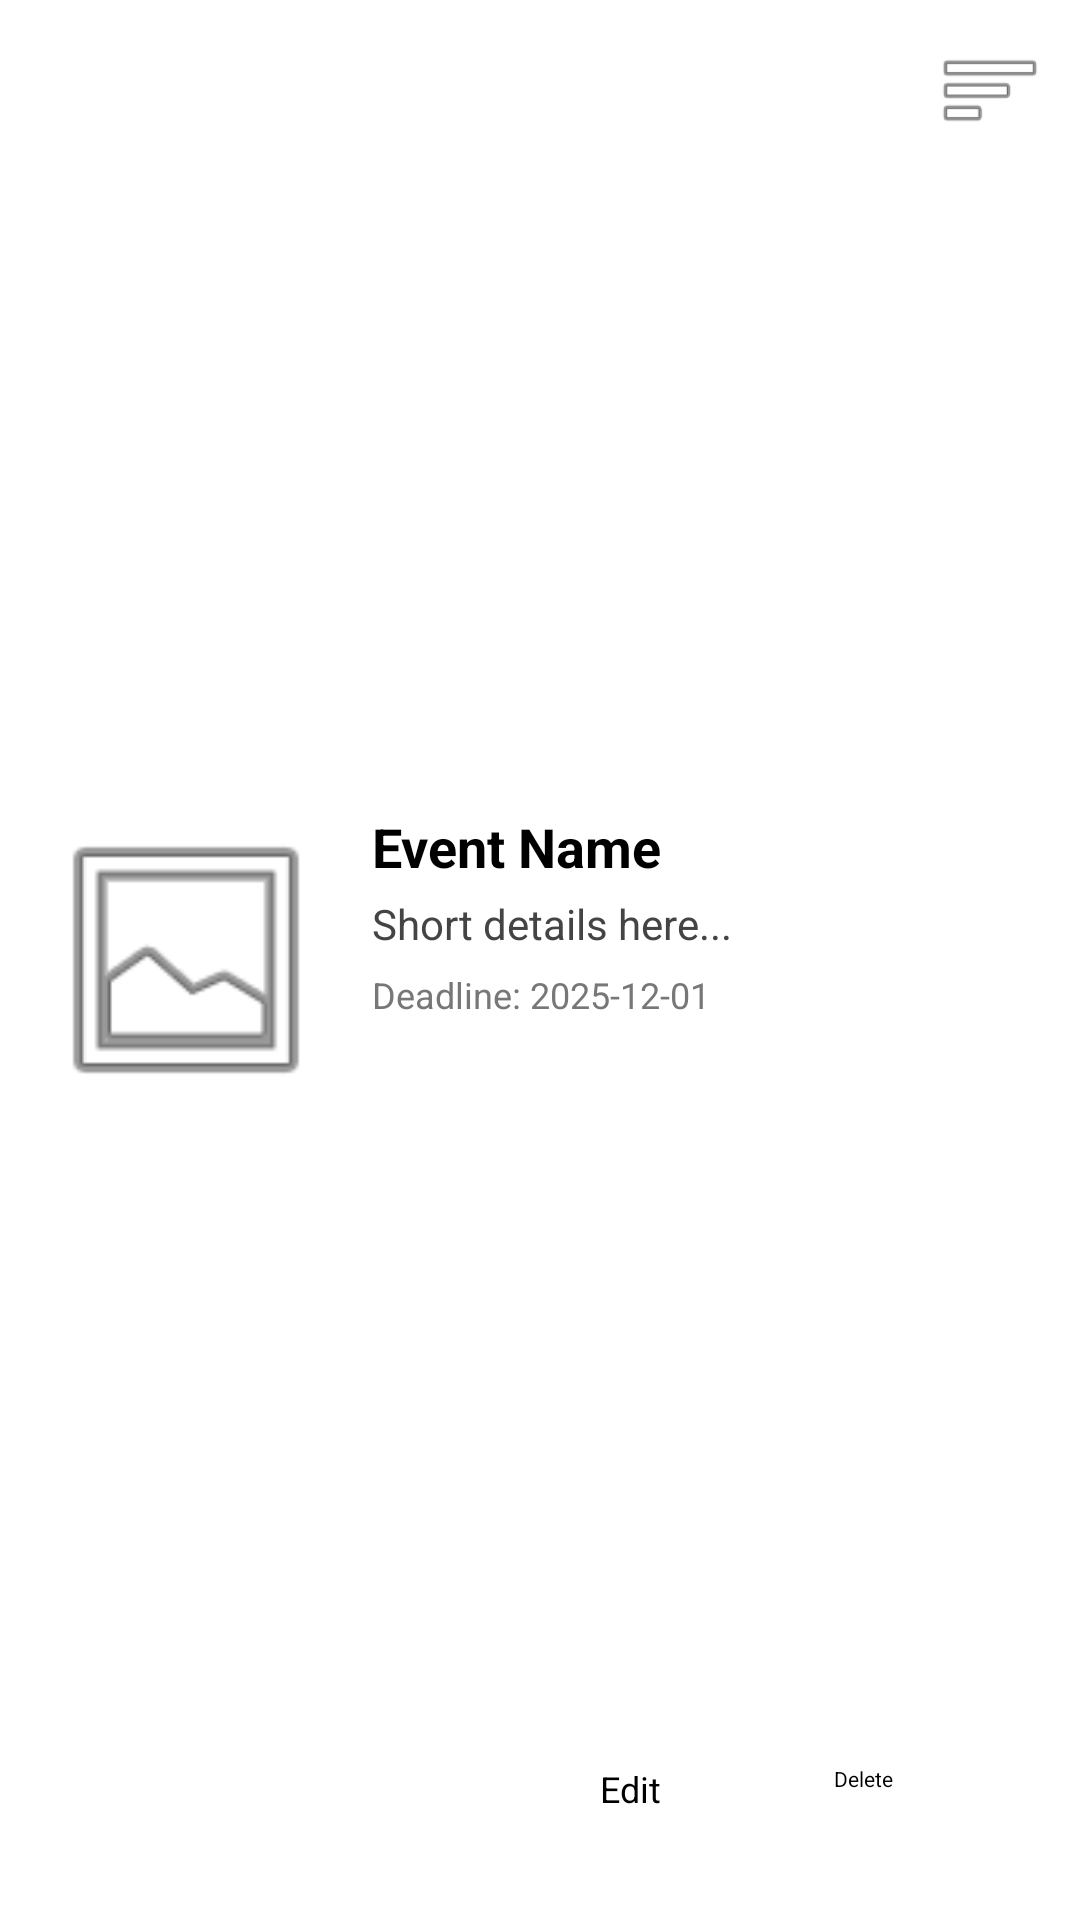

Icons on this 1080 × 1920 Android screen, each with its box as {"x1": x1, "y1": y1, "x2": x2, "y2": y2}:
gallery: {"x1": 73, "y1": 847, "x2": 299, "y2": 1073}
More/List: {"x1": 943, "y1": 60, "x2": 1037, "y2": 121}
